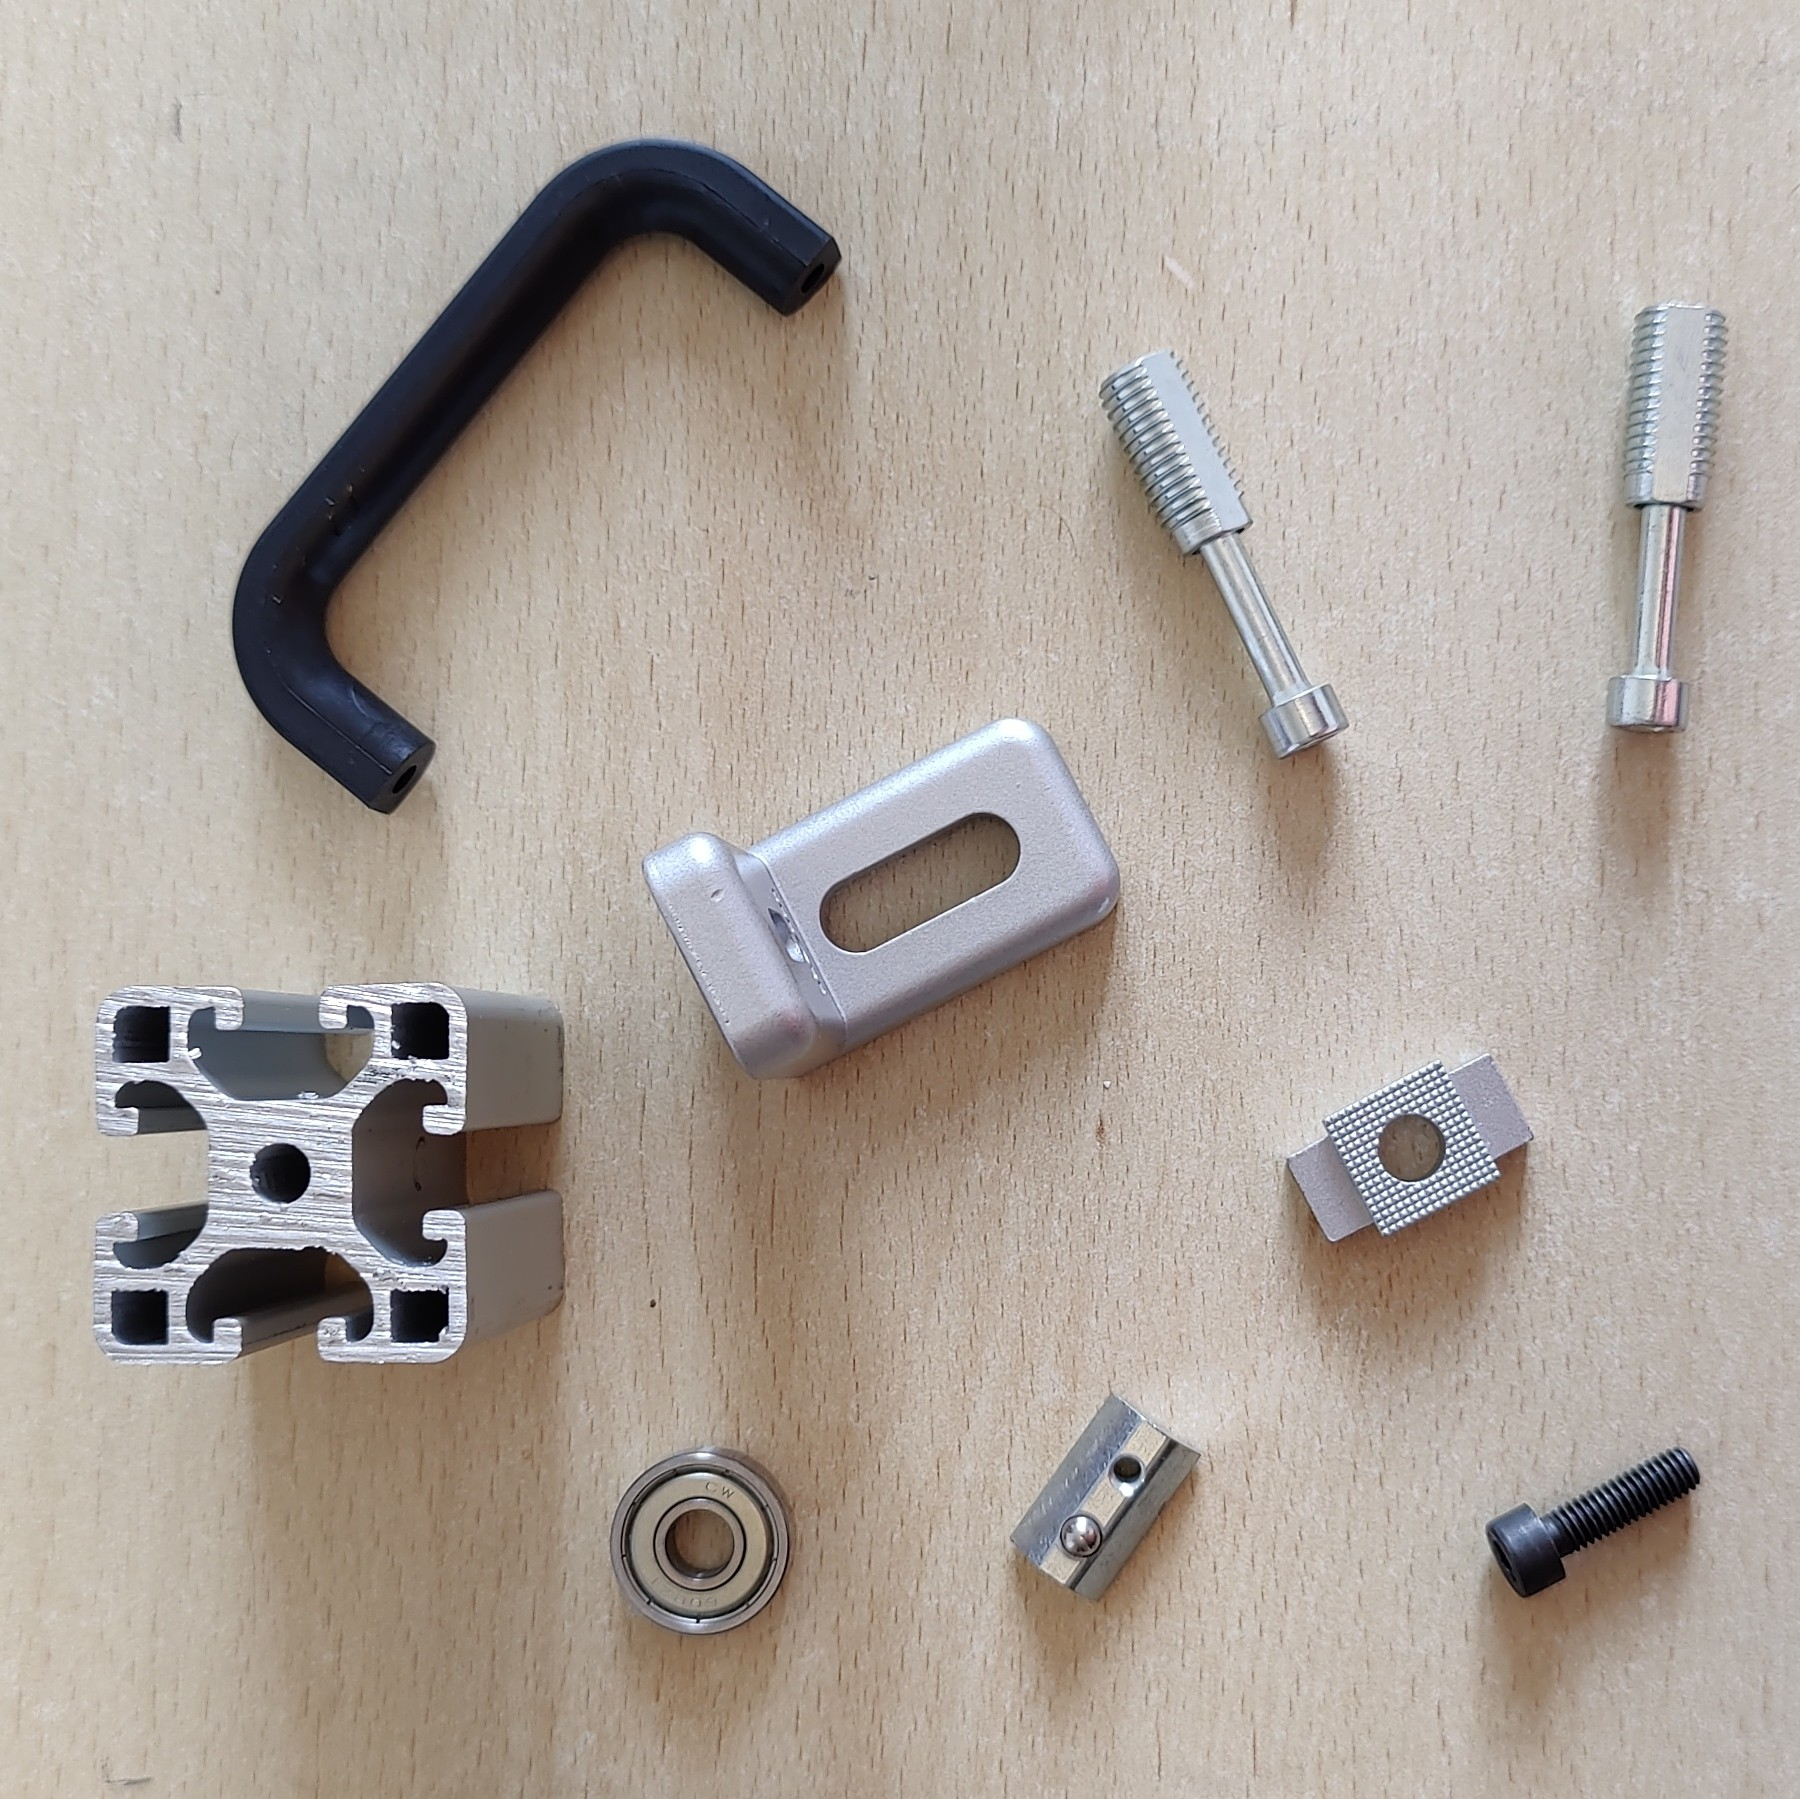Aluminium Extension: (89, 980, 570, 1367)
Ball Bearing: (608, 1445, 795, 1638)
Multiwinkel: (641, 713, 1123, 1086)
Pull Handle: (227, 135, 843, 817)
Shoulder Socket Head Cap Screw: (1094, 344, 1352, 763), (1602, 301, 1731, 741)
Socket Head Cap Screw: (1484, 1445, 1701, 1600)
T Nut Square: (1283, 1054, 1537, 1245)
T Spring Nut: (1008, 1390, 1202, 1601)
